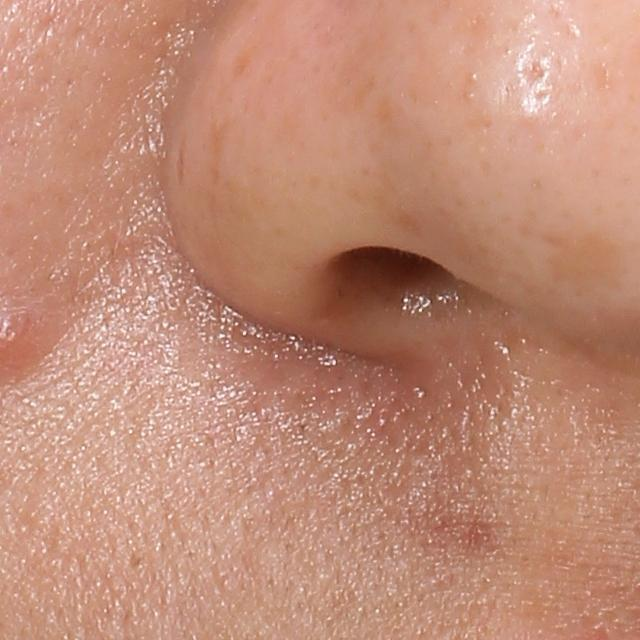melasma: (542, 230, 627, 288)
